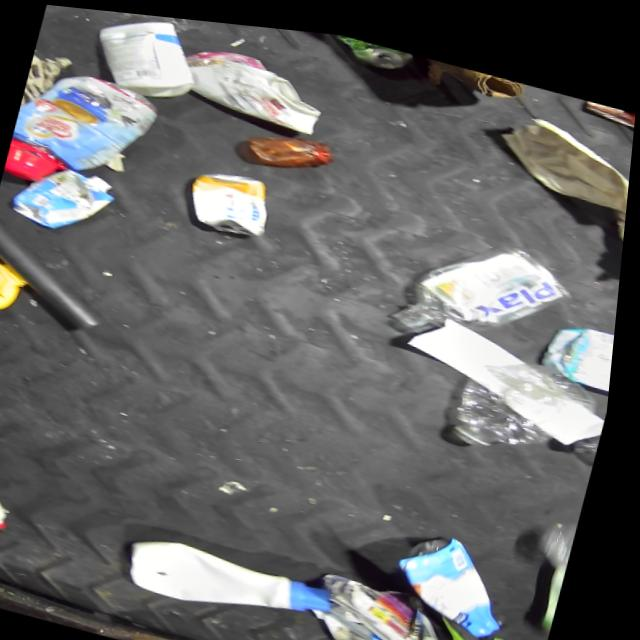can: (187, 158, 281, 237), (330, 27, 417, 67), (581, 86, 637, 118)
milk_jug: (174, 34, 337, 131), (86, 8, 208, 103), (544, 302, 621, 378)
non_white_jug: (4, 58, 167, 208), (395, 513, 532, 631), (11, 152, 124, 242), (0, 253, 39, 335)
plastic_bottle: (390, 209, 588, 361), (453, 336, 611, 463)
